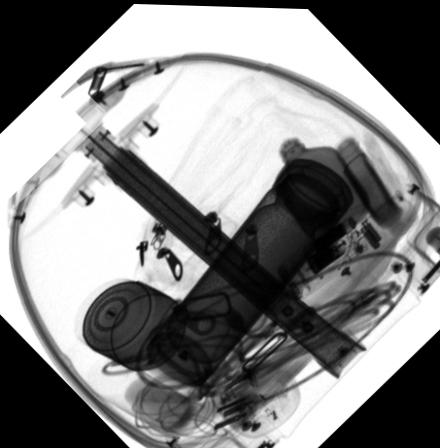Sprayer: (71, 277, 185, 371)
